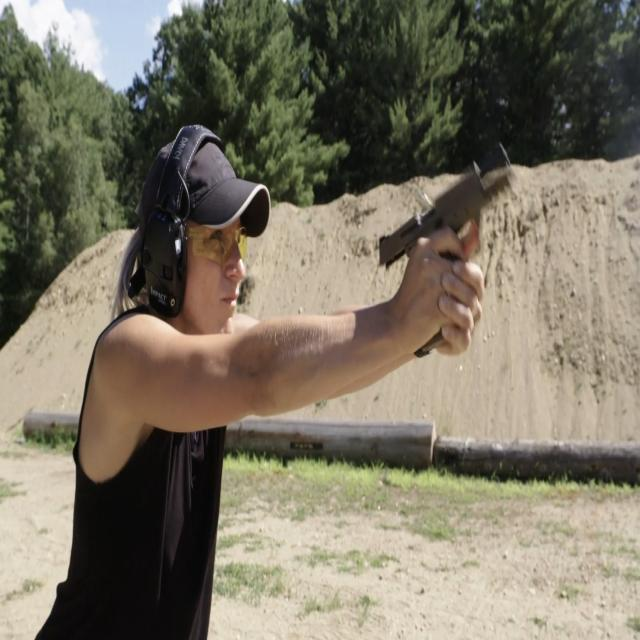Gun_Holder: (382, 135, 516, 340)
Person: (54, 118, 436, 640)
